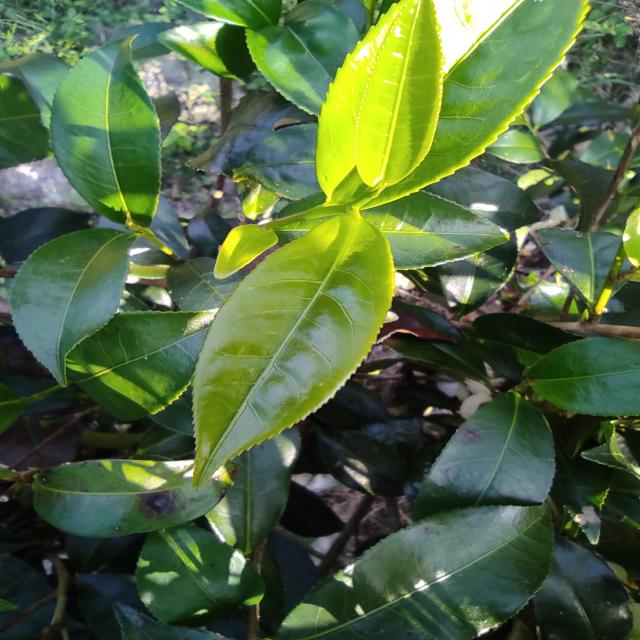Category B(2-4 days): (165, 180, 434, 488)
